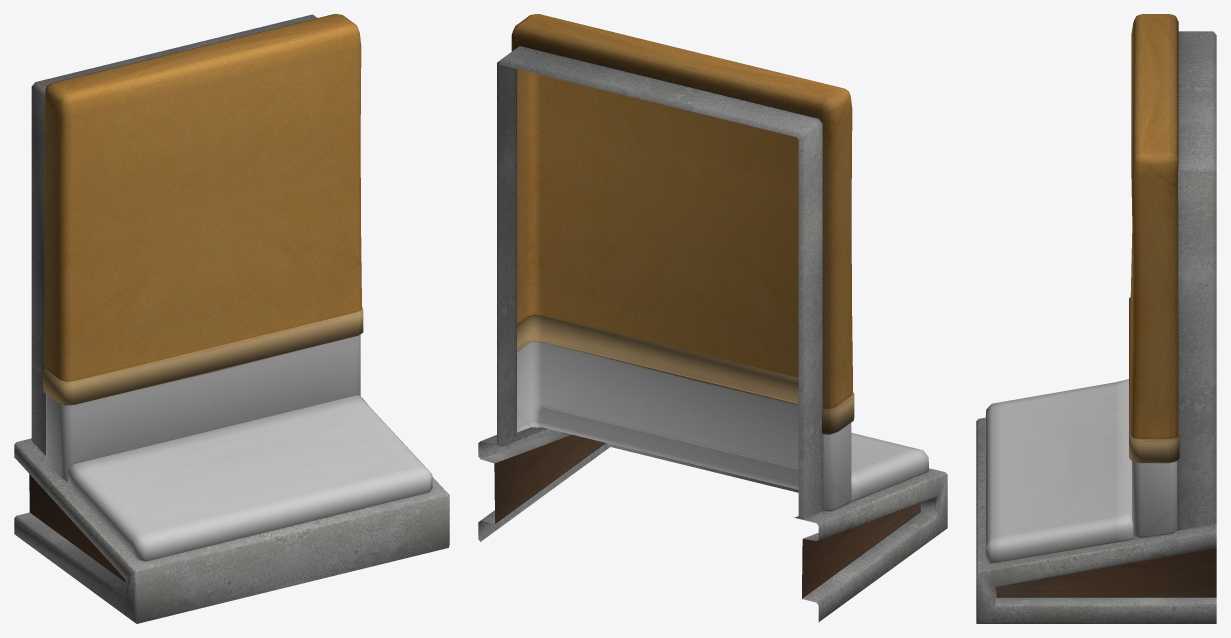
File: nt_2020_bed_fullsize_01_LOD0.obj
3 views of the same model, side by side, from view 1: azimuth 30°, elevation 25°; view 2: azimuth 150°, elevation 25°; view 3: azimuth 270°, elevation 25° (orthographic). The views are drawn at different scales.
Parts seen in each view (by area): view 1: mtl_nt_2020_bed_fullsize_01; view 2: mtl_nt_2020_bed_fullsize_01; view 3: mtl_nt_2020_bed_fullsize_01.
Boxes of the visible parts, x1,y1,x2,y2 form: mtl_nt_2020_bed_fullsize_01: [14, 14, 449, 623]; mtl_nt_2020_bed_fullsize_01: [478, 14, 947, 622]; mtl_nt_2020_bed_fullsize_01: [976, 14, 1216, 623].
Bounding box in the file's own units: 173 × 244 × 114.
